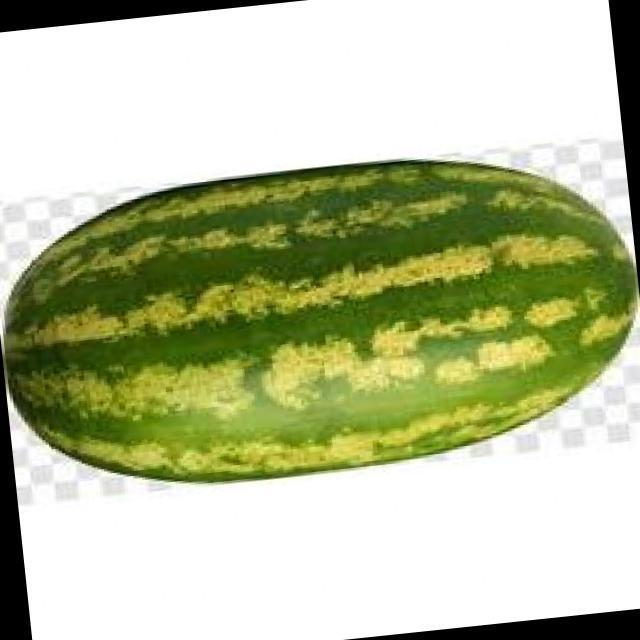watermelon: (5, 163, 636, 482)
